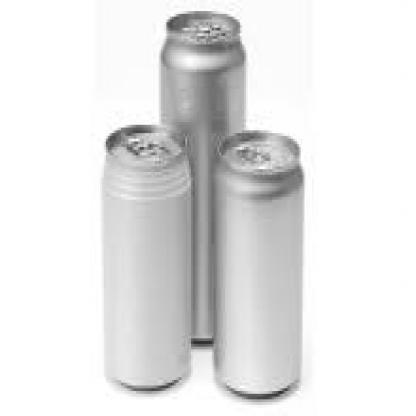Compsot: (159, 11, 244, 341), (212, 125, 300, 396), (102, 122, 189, 388)
